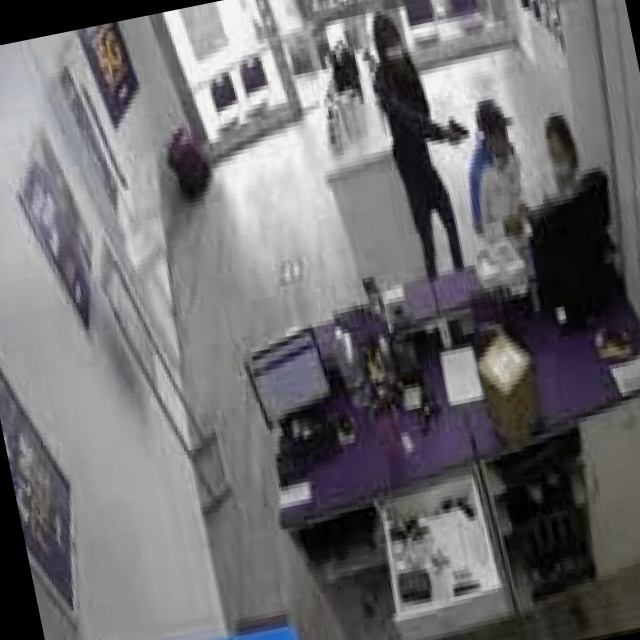gun: (437, 105, 472, 151)
